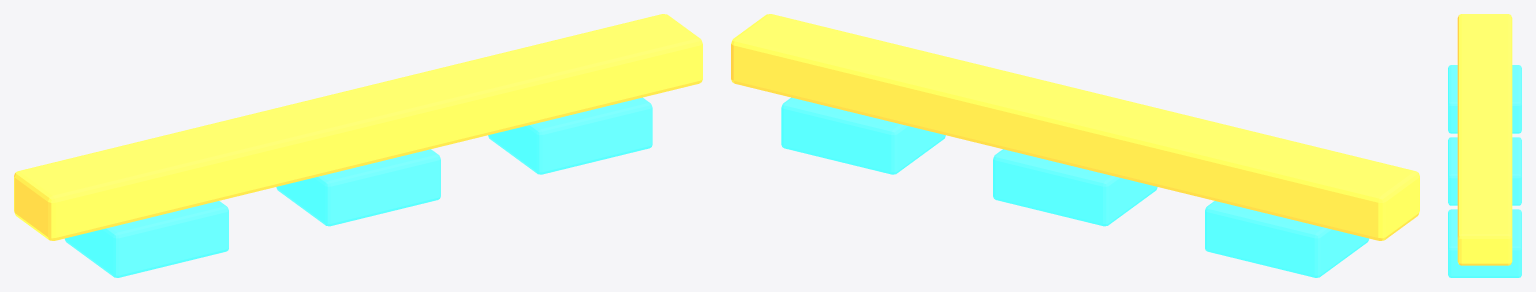
Rendered from bridge-crane-magnet-hoist-v4-medium.glb.
3 views of the same model, side by side, from view 1: azimuth 30°, elevation 25°; view 2: azimuth 150°, elevation 25°; view 3: azimuth 270°, elevation 25° (orthographic). The views are drawn at different scales.
Parts seen in each view (by area): view 1: bc-mag-beam.001, bc-mag-pad-3.001, bc-mag-pad-2.001, bc-mag-pad-1.001; view 2: bc-mag-beam.001, bc-mag-pad-3.001, bc-mag-pad-2.001, bc-mag-pad-1.001; view 3: bc-mag-beam.001, bc-mag-pad-3.001, bc-mag-pad-1.001, bc-mag-pad-2.001.
Boxes of the visible parts, <box> form: bc-mag-beam.001: <box>14,14,702,240</box>; bc-mag-pad-3.001: <box>488,97,652,174</box>; bc-mag-pad-2.001: <box>276,149,440,226</box>; bc-mag-pad-1.001: <box>65,201,228,277</box>; bc-mag-beam.001: <box>731,14,1419,240</box>; bc-mag-pad-3.001: <box>781,97,945,174</box>; bc-mag-pad-2.001: <box>993,149,1157,226</box>; bc-mag-pad-1.001: <box>1205,201,1368,277</box>; bc-mag-beam.001: <box>1457,14,1512,265</box>; bc-mag-pad-3.001: <box>1448,209,1521,277</box>; bc-mag-pad-1.001: <box>1448,65,1521,133</box>; bc-mag-pad-2.001: <box>1448,137,1521,205</box>.
Size of the model in its own units: 6.8 by 0.9 by 0.95.
